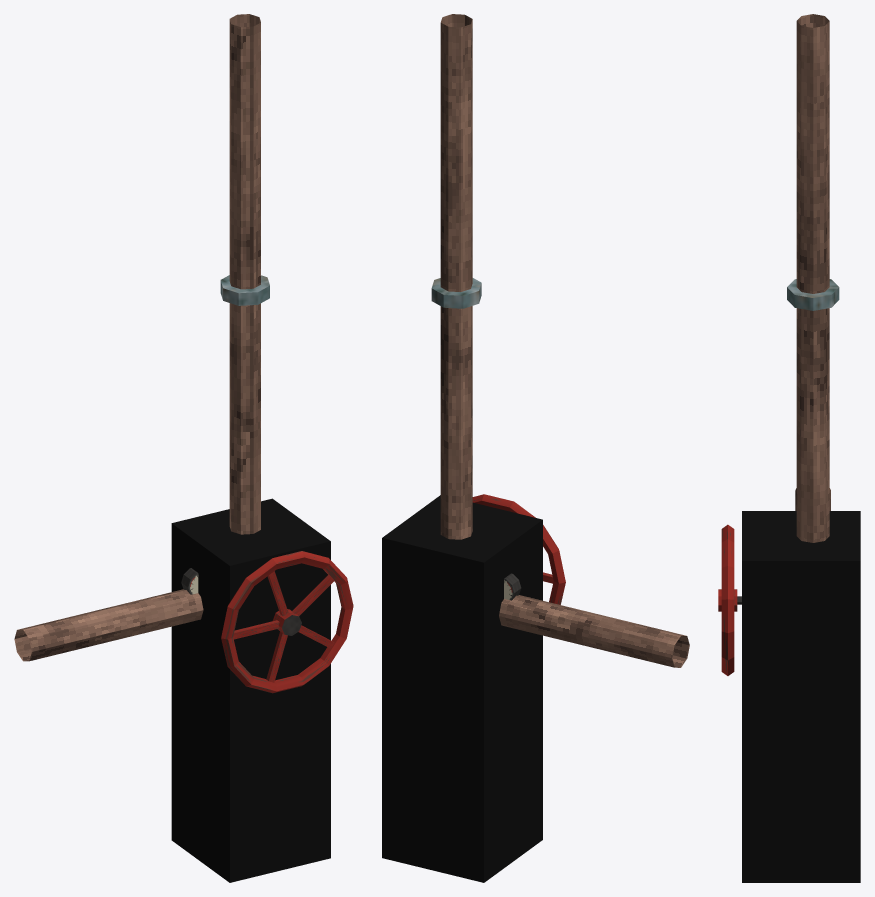
The model's file is valve_l.fbx.
The picture shows the model from 3 angles, left to right: view 1: azimuth 30°, elevation 25°; view 2: azimuth 150°, elevation 25°; view 3: azimuth 270°, elevation 25°; orthographic projection.
Parts seen in each view (by area): view 1: col_post, valve_l, wheel; view 2: col_post, valve_l, wheel; view 3: col_post, valve_l, wheel.
Part boxes in pixels (<box>): col_post: <box>171,498,330,882</box>; valve_l: <box>14,14,269,661</box>; wheel: <box>221,551,353,693</box>; col_post: <box>382,495,542,882</box>; valve_l: <box>431,14,689,667</box>; wheel: <box>472,494,565,604</box>; col_post: <box>742,511,860,882</box>; valve_l: <box>737,14,839,604</box>; wheel: <box>718,524,737,675</box>.
Bounding box in the file's own units: 1.43 × 3.9 × 0.6.
3 materials, 3 textured.
